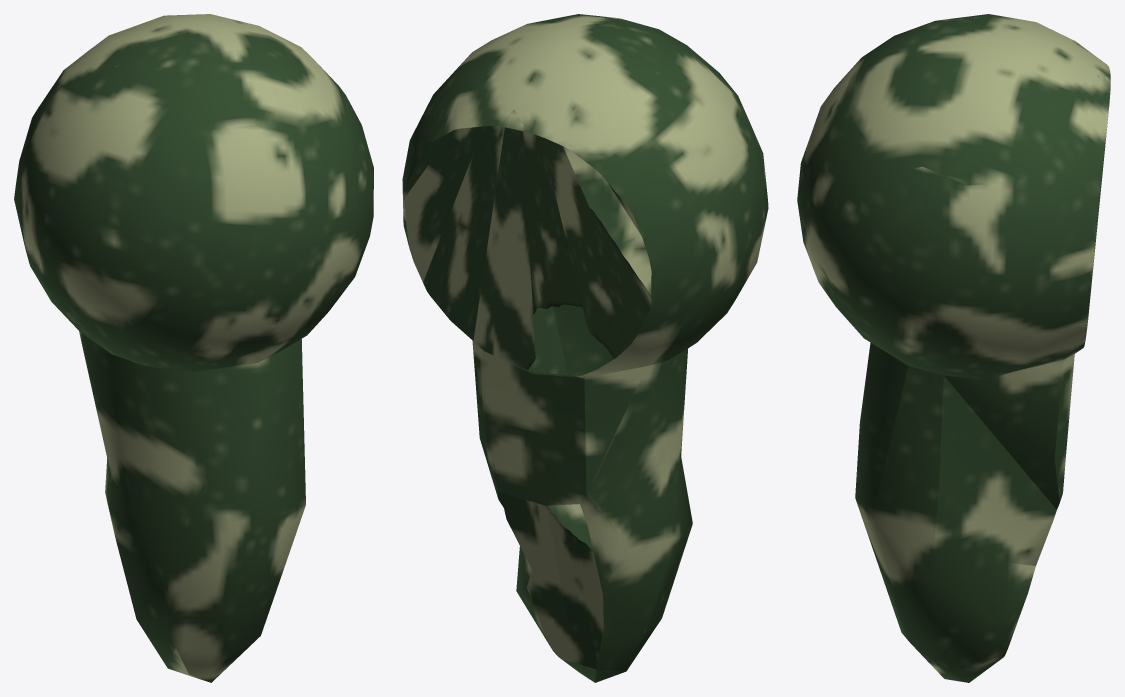
Rendered from link_leg_0_L_0.obj.
3 views of the same model, side by side, from view 1: azimuth 30°, elevation 25°; view 2: azimuth 150°, elevation 25°; view 3: azimuth 270°, elevation 25° (orthographic).
Visible parts, largest first — view 1: link_leg_0_L_0; view 2: link_leg_0_L_0; view 3: link_leg_0_L_0.
Part boxes in pixels (x1=…): link_leg_0_L_0: x1=14, y1=14, x2=373, y2=682; link_leg_0_L_0: x1=402, y1=14, x2=768, y2=682; link_leg_0_L_0: x1=797, y1=14, x2=1110, y2=682.
Size of the model in its own units: 7.33 by 14.41 by 6.31.
